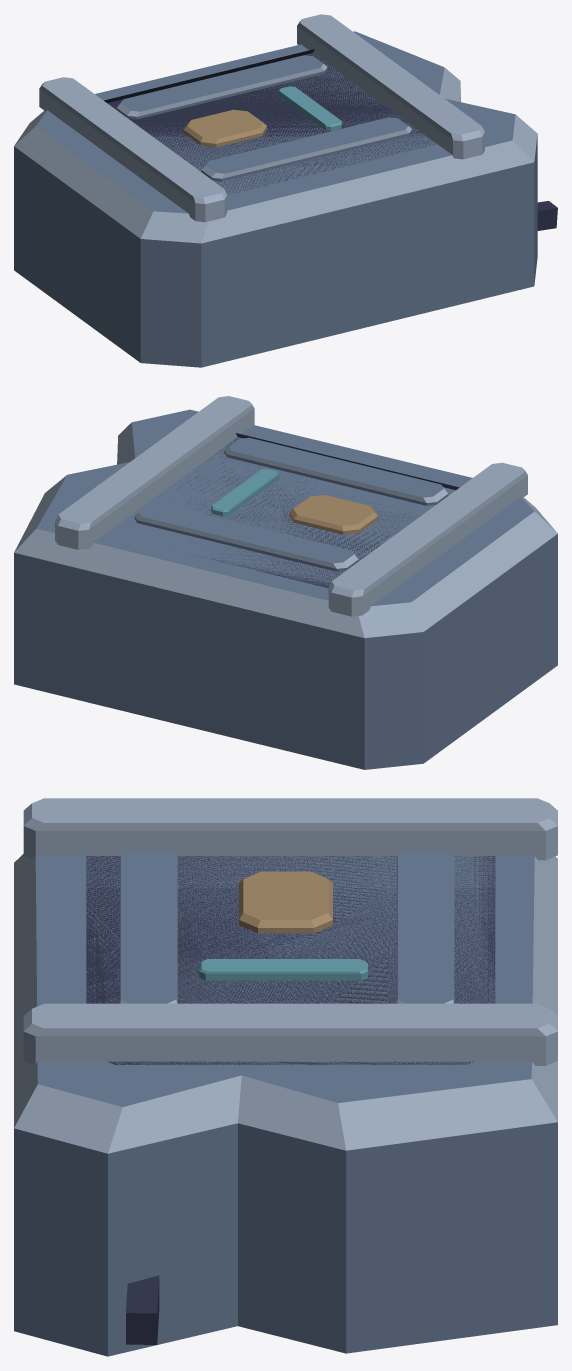
File: ruptured_cargo_pod.glb
The picture shows the model from 3 angles, top to bottom: view 1: azimuth 30°, elevation 25°; view 2: azimuth 150°, elevation 25°; view 3: azimuth 270°, elevation 25°; orthographic projection. The views are drawn at different scales.
Visible parts, largest first — view 1: ruptured_cargo_pod; view 2: ruptured_cargo_pod; view 3: ruptured_cargo_pod.
Part boxes in pixels (x1,y1,x2,y2): ruptured_cargo_pod: (14, 14, 557, 367); ruptured_cargo_pod: (14, 396, 557, 769); ruptured_cargo_pod: (14, 798, 557, 1356).
Size of the model in its own units: 3.39 by 1.23 by 2.26.
